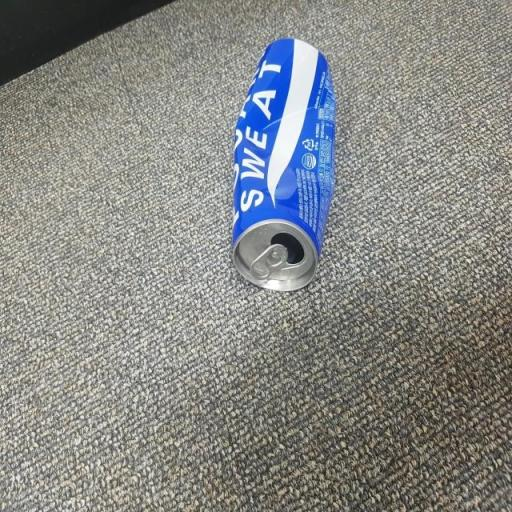metal: (218, 22, 348, 308)
